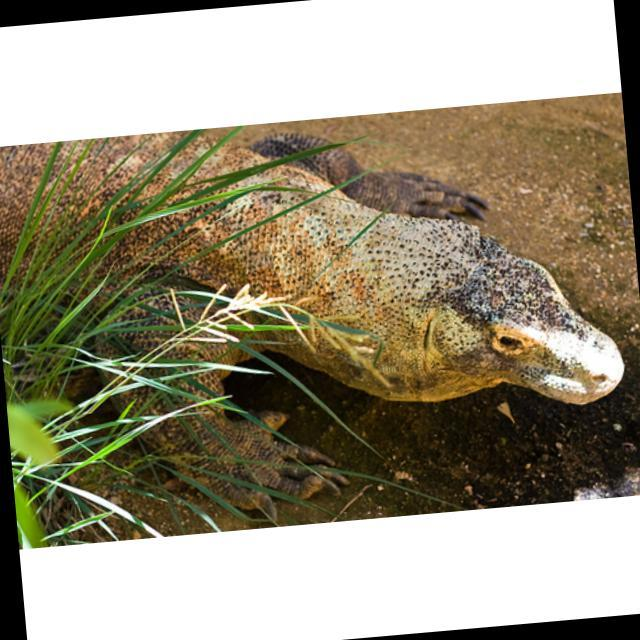KomodoDragon: (0, 114, 635, 546)
